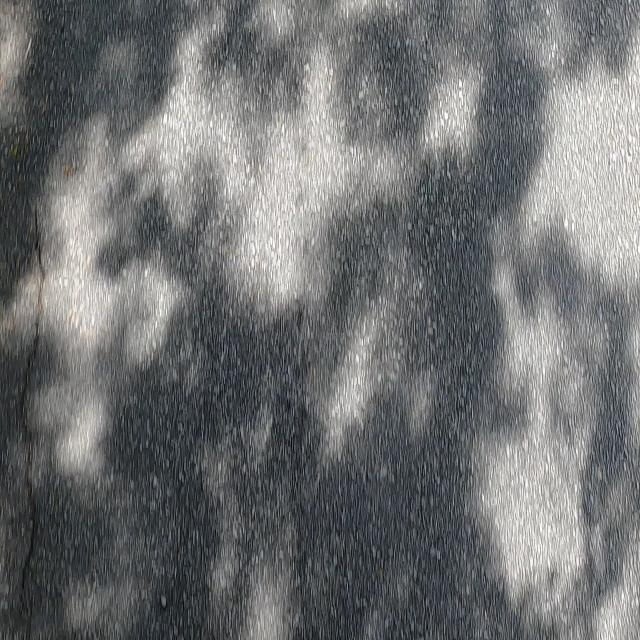Retak-Memanjang: (13, 200, 52, 590)
